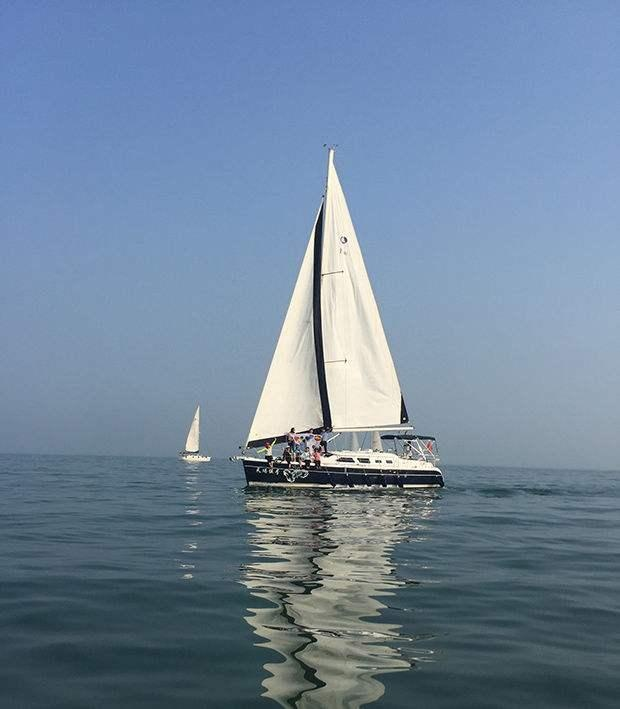fanchuan: (232, 145, 449, 492), (175, 408, 215, 466)
